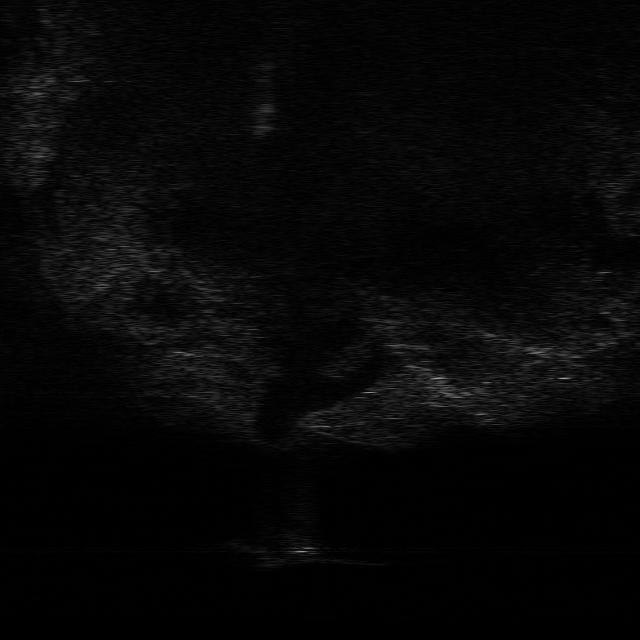plane: (226, 532, 388, 568)
